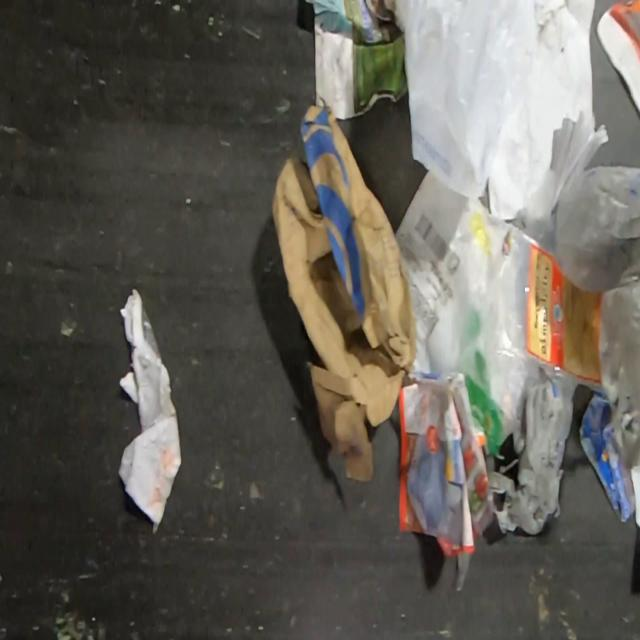cardboard: (269, 102, 416, 485), (594, 0, 640, 121)
soft_plastic: (393, 0, 541, 194), (554, 164, 640, 469), (425, 232, 536, 459), (484, 217, 606, 395), (485, 380, 575, 537)
